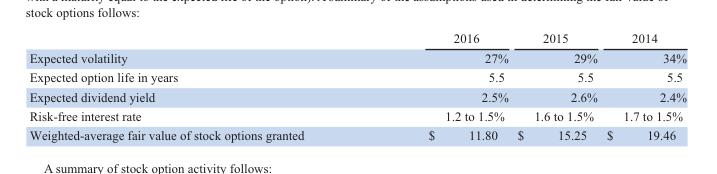table: (28, 29, 685, 143)
table column: (28, 29, 365, 143), (365, 29, 512, 143), (512, 29, 601, 143), (601, 29, 685, 143)
table column header: (28, 29, 685, 47)
table row: (28, 47, 685, 67), (28, 105, 685, 125), (28, 67, 685, 86), (28, 86, 685, 105), (28, 29, 685, 47), (28, 125, 685, 143)
